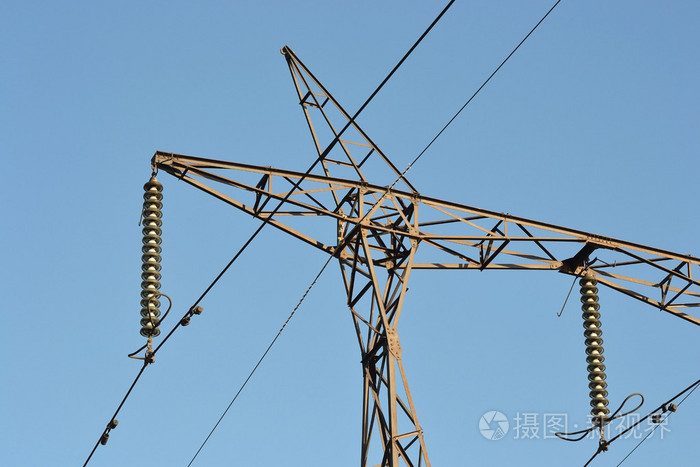insulator: (579, 275, 612, 426), (139, 181, 165, 338)
